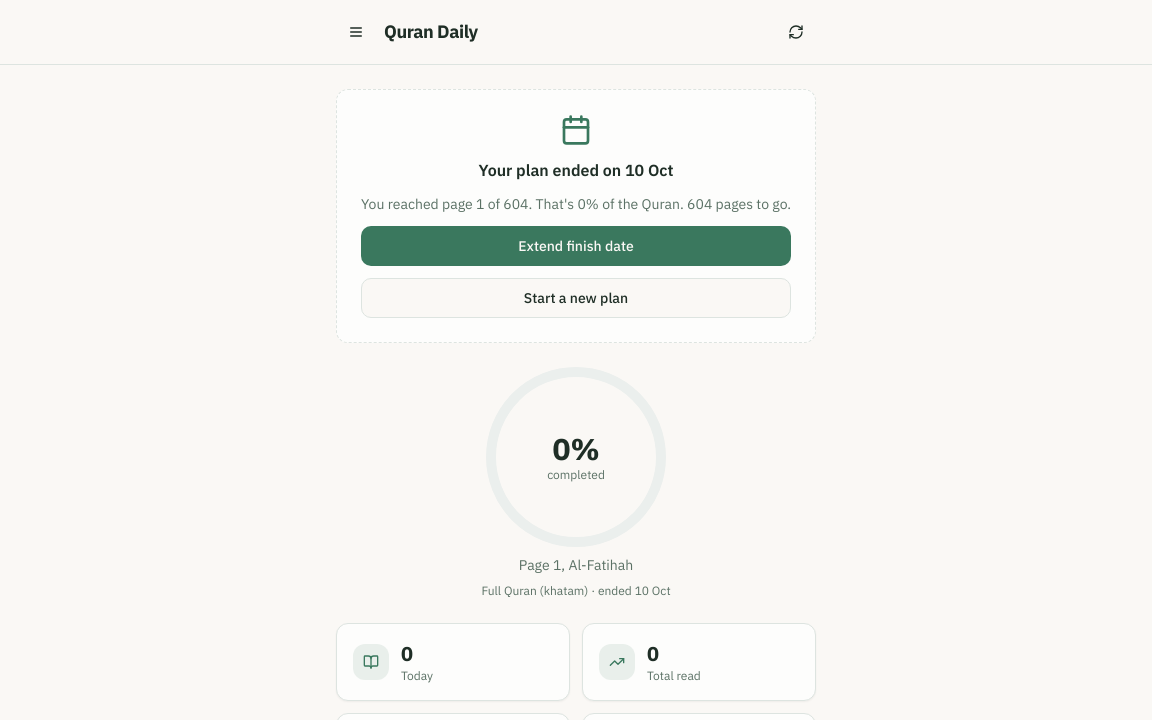
Test: Home › opens set-up at the goal step for a new plan, and back returns home
Click the button "Start a new plan": (576, 298) 361,278 -> 791,318
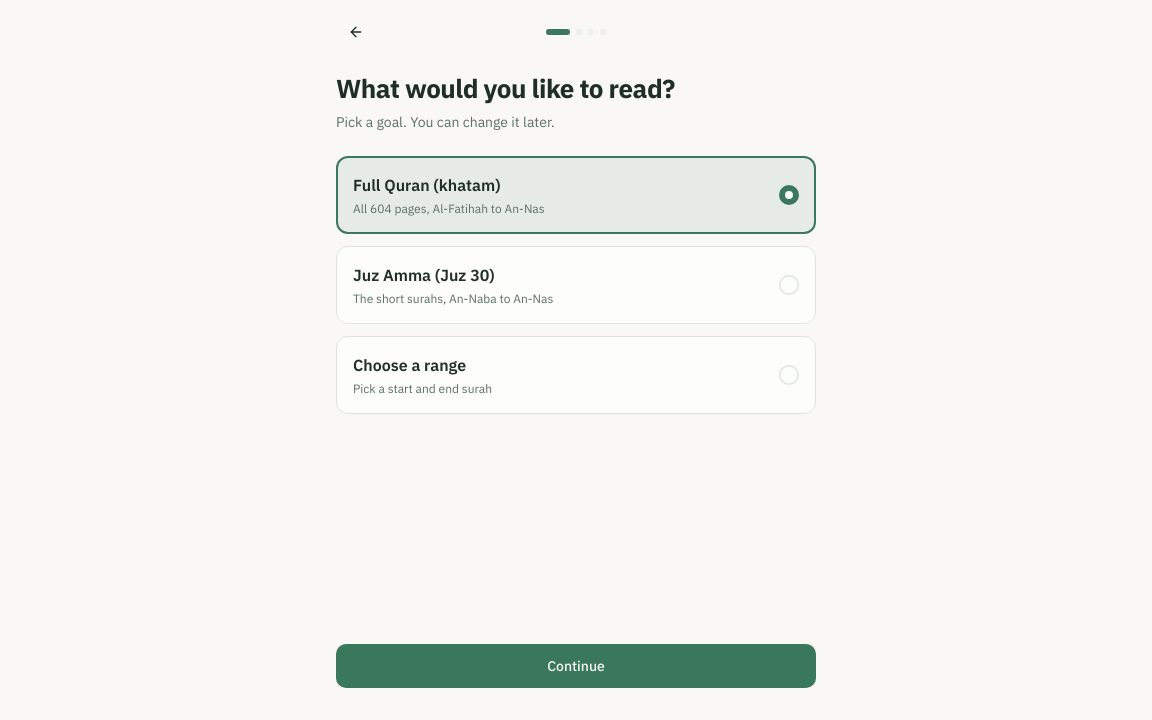
Check: the heading "What would you like to read?" is shown, box 336,71 -> 675,105
Click the button named "Back": (356, 32) 336,12 -> 376,52
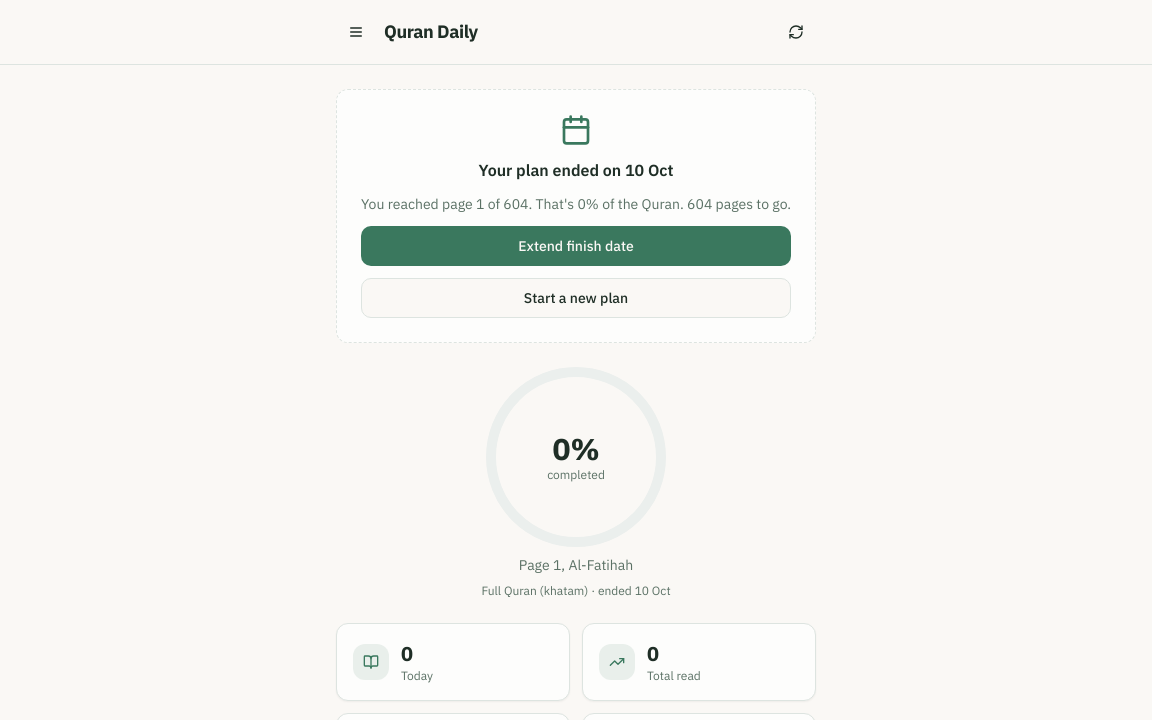
Check: the text "Your plan ended on 10 Oct" is shown, box 478,158 -> 674,182
